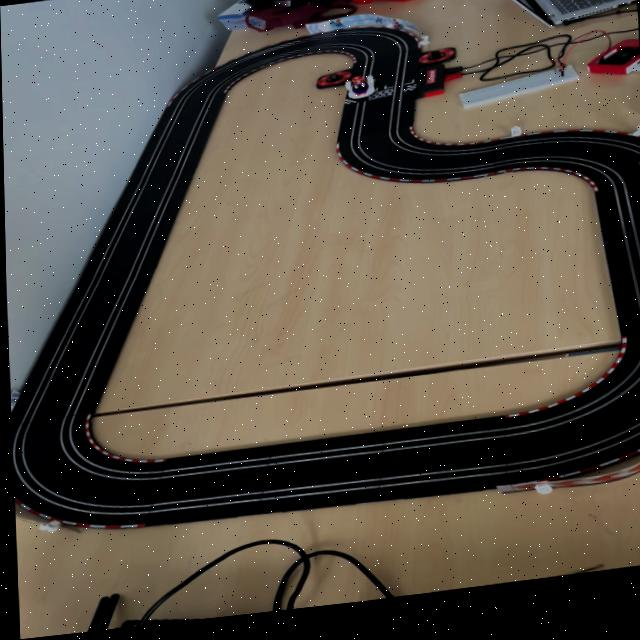mario: (336, 80, 380, 112)
